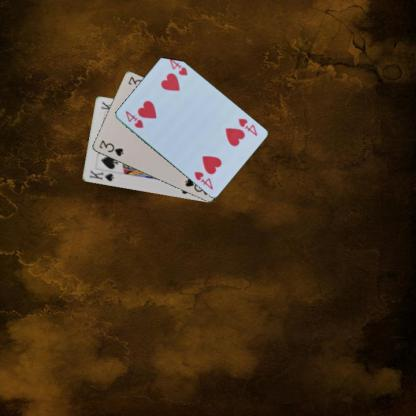3s: (96, 138, 125, 157)
4h: (235, 115, 258, 138), (122, 108, 145, 129)
Ks: (87, 168, 115, 182)
